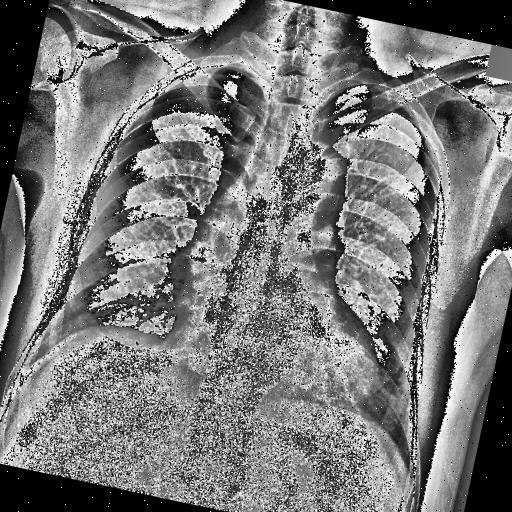0- Aortic enlargement: (268, 132, 360, 232), (270, 134, 358, 231), (274, 136, 357, 232)
11- Pleural thickening: (366, 82, 424, 123)
3- Cardiomegaly: (156, 280, 386, 432), (160, 280, 391, 414), (158, 288, 386, 418)
5- ILD: (28, 228, 204, 384)
